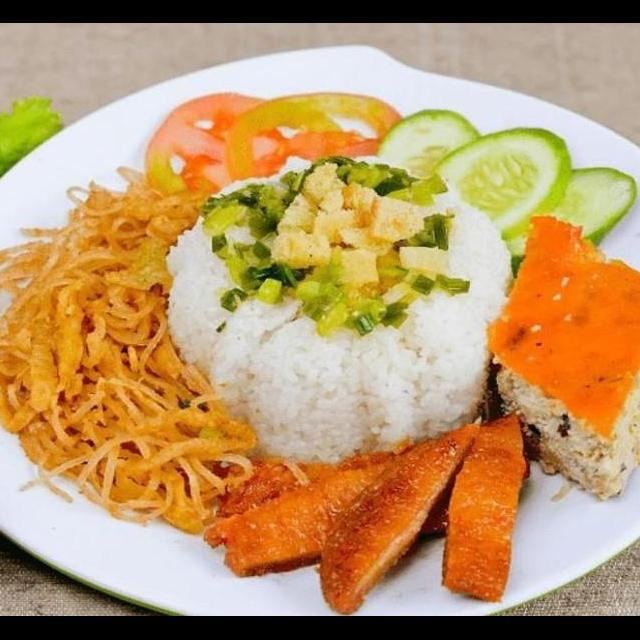bi: (377, 80, 640, 475)
com: (123, 169, 477, 486)
com suon bi trung: (0, 67, 640, 616)
suon: (109, 24, 441, 234)
trung: (0, 136, 155, 426)
